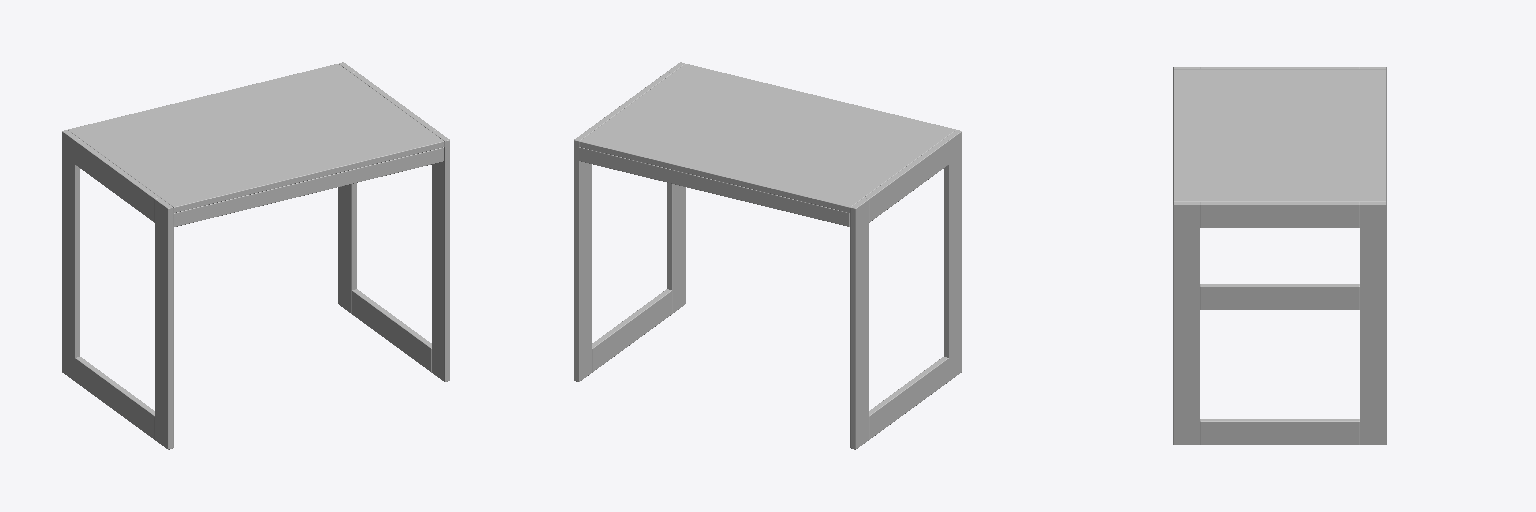
Rendered from Challenge 3 Painting Table.obj.
The picture shows the model from 3 angles: view 1: azimuth 30°, elevation 25°; view 2: azimuth 150°, elevation 25°; view 3: azimuth 270°, elevation 25°; orthographic projection.
Visible parts, largest first — view 1: tabletop, tabletop pCube4 pCube5 pCube2 pCube2, tabletop pCube4 pCube5 pCube3 pCube3, tabletop pCube4 pCube5 pCube2 pCube2 pCube1 pCube1, tabletop pCube7 pCube6, tabletop pCube4 pCube5; view 2: tabletop, tabletop pCube4 pCube5 pCube3 pCube3, tabletop pCube4 pCube5 pCube2 pCube2, tabletop pCube4 pCube5 pCube2 pCube2 pCube1 pCube1, tabletop pCube7 pCube6, tabletop pCube4 pCube5; view 3: tabletop, tabletop pCube4 pCube5 pCube2 pCube2 pCube1 pCube1, tabletop pCube4 pCube5 pCube3 pCube3, tabletop pCube4 pCube5 pCube2 pCube2, tabletop pCube4 pCube5.
Part boxes in pixels (bbox=[...]): tabletop: bbox=[68, 64, 444, 212]; tabletop pCube4 pCube5 pCube2 pCube2: bbox=[155, 130, 449, 449]; tabletop pCube4 pCube5 pCube3 pCube3: bbox=[62, 62, 356, 380]; tabletop pCube4 pCube5 pCube2 pCube2 pCube1 pCube1: bbox=[75, 289, 431, 439]; tabletop pCube7 pCube6: bbox=[174, 147, 443, 226]; tabletop pCube4 pCube5: bbox=[75, 72, 435, 222]; tabletop: bbox=[579, 64, 955, 212]; tabletop pCube4 pCube5 pCube3 pCube3: bbox=[574, 130, 868, 449]; tabletop pCube4 pCube5 pCube2 pCube2: bbox=[667, 62, 961, 380]; tabletop pCube4 pCube5 pCube2 pCube2 pCube1 pCube1: bbox=[592, 289, 948, 439]; tabletop pCube7 pCube6: bbox=[579, 147, 849, 226]; tabletop pCube4 pCube5: bbox=[588, 72, 948, 222]; tabletop: bbox=[1173, 69, 1386, 201]; tabletop pCube4 pCube5 pCube2 pCube2 pCube1 pCube1: bbox=[1200, 284, 1359, 444]; tabletop pCube4 pCube5 pCube3 pCube3: bbox=[1360, 67, 1386, 444]; tabletop pCube4 pCube5 pCube2 pCube2: bbox=[1173, 67, 1199, 444]; tabletop pCube4 pCube5: bbox=[1200, 67, 1359, 227].
Bounding box in the file's own units: 12.25 × 10 × 8.